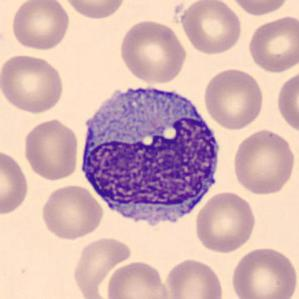Monocyte: (74, 75, 226, 236)
RBC: (117, 17, 189, 85), (230, 127, 297, 196), (193, 189, 257, 255), (202, 66, 266, 131), (0, 51, 66, 114), (70, 235, 134, 298), (38, 182, 105, 240), (20, 117, 80, 181), (229, 244, 298, 299), (177, 0, 244, 56), (9, 0, 71, 52), (246, 13, 298, 74), (105, 259, 172, 299), (163, 257, 226, 299), (0, 148, 31, 217), (275, 68, 298, 135), (61, 0, 128, 21), (227, 0, 292, 16)
